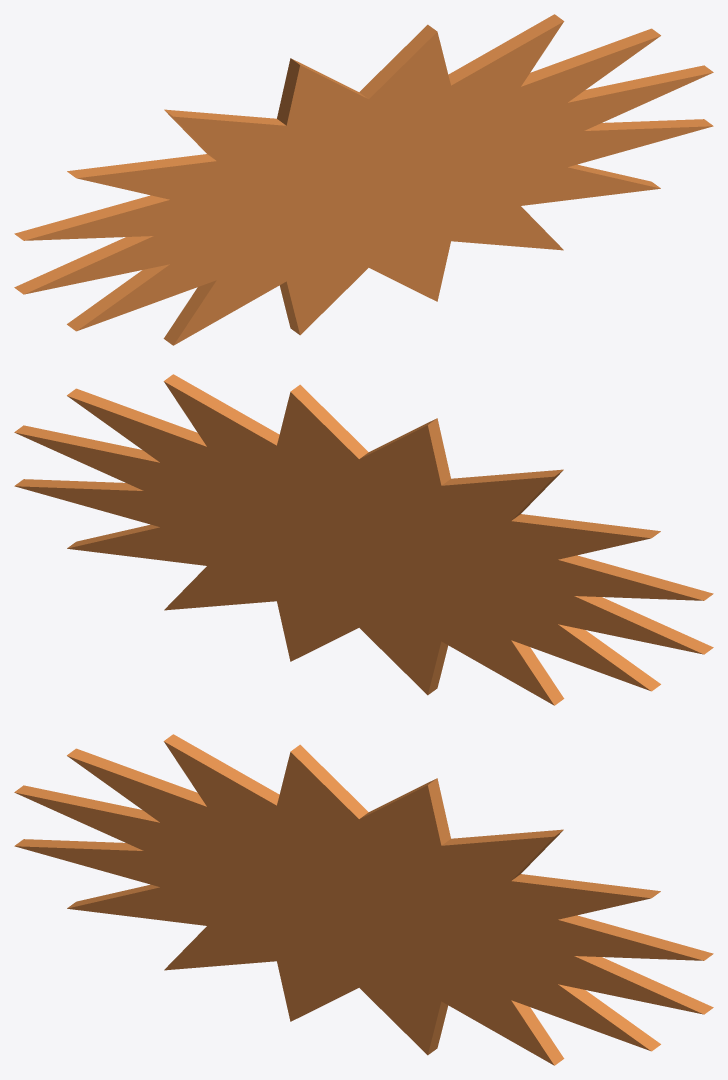
The model's file is RewardIcon.fbx.
3 renders of one model, top to bottom at view 1: azimuth 30°, elevation 25°; view 2: azimuth 150°, elevation 25°; view 3: azimuth 330°, elevation 25°, orthographic.
Parts seen in each view (by area): view 1: Reward Mesh; view 2: Reward Mesh; view 3: Reward Mesh.
Boxes of the visible parts, <box> form: Reward Mesh: <box>14,14,713,345</box>; Reward Mesh: <box>14,374,713,705</box>; Reward Mesh: <box>14,734,713,1065</box>.
Size of the model in its own units: 4516 by 1690 by 110.
